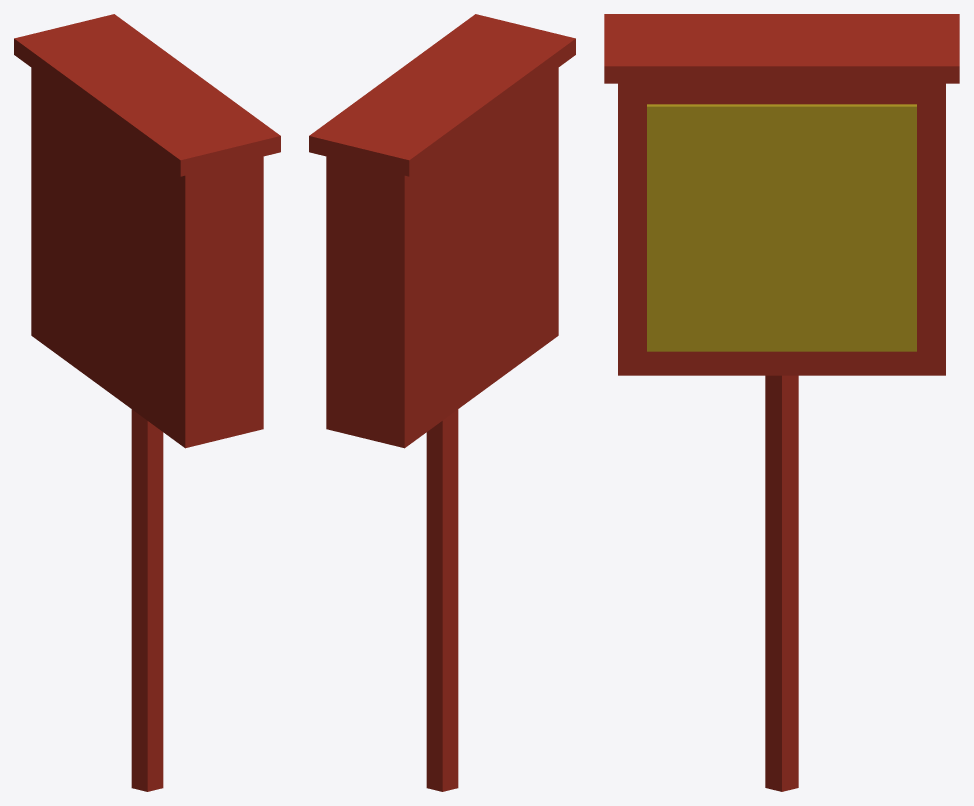
The model's file is SM_Prop_coast_lifebuoy_0_LOD1.glb.
3 views of the same model, side by side, from view 1: azimuth 30°, elevation 25°; view 2: azimuth 150°, elevation 25°; view 3: azimuth 270°, elevation 25° (orthographic). The views are drawn at different scales.
Parts seen in each view (by area): view 1: SM_Prop_coast_lifebuoy_0_LOD1; view 2: SM_Prop_coast_lifebuoy_0_LOD1; view 3: SM_Prop_coast_lifebuoy_0_LOD1.
Part boxes in pixels (bbox=[...]): SM_Prop_coast_lifebuoy_0_LOD1: bbox=[14, 14, 280, 791]; SM_Prop_coast_lifebuoy_0_LOD1: bbox=[309, 14, 575, 791]; SM_Prop_coast_lifebuoy_0_LOD1: bbox=[604, 14, 959, 791].
Bounding box in the file's own units: 0.32 × 2.12 × 0.92.
